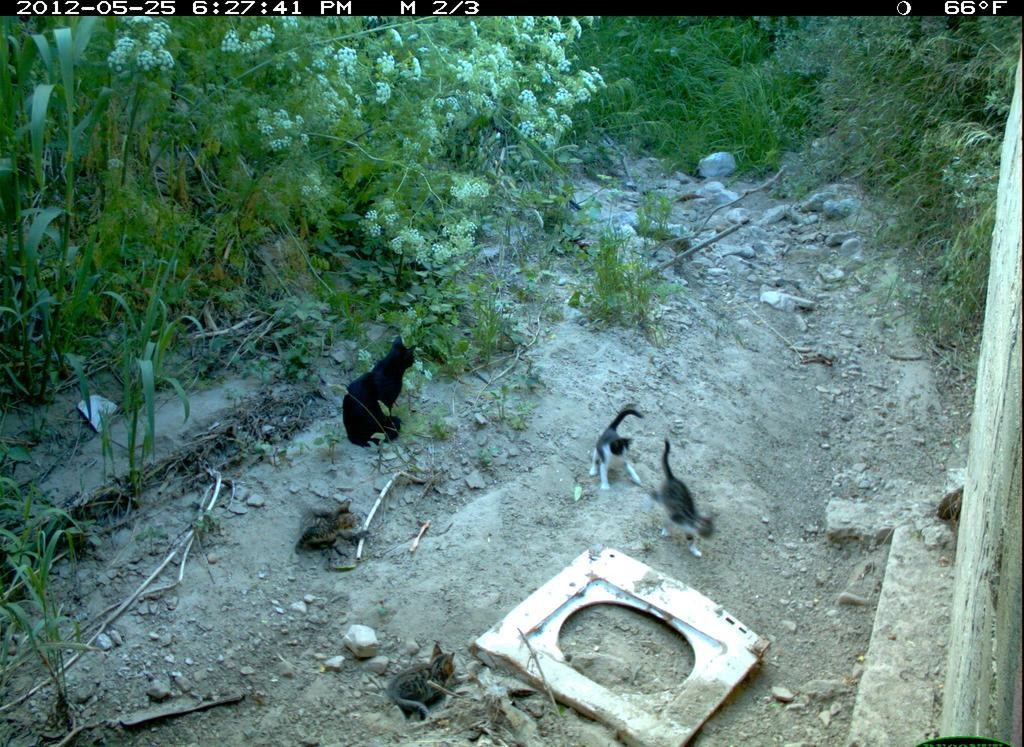cat: (337, 329, 424, 451), (658, 438, 721, 561), (579, 400, 651, 497), (283, 489, 368, 565), (387, 641, 459, 724)
